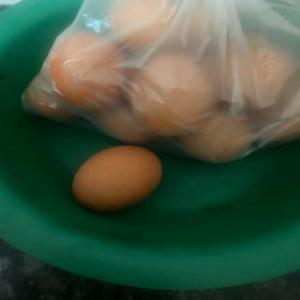egg: (51, 33, 133, 109), (72, 143, 163, 211), (136, 56, 214, 132), (215, 32, 286, 106), (108, 0, 194, 52), (188, 114, 252, 166), (98, 106, 158, 142), (27, 76, 68, 122), (263, 106, 299, 150)
